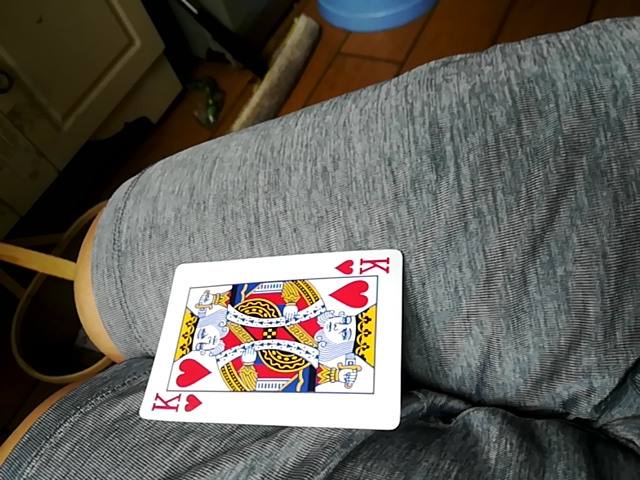hx k: (140, 246, 409, 430)
